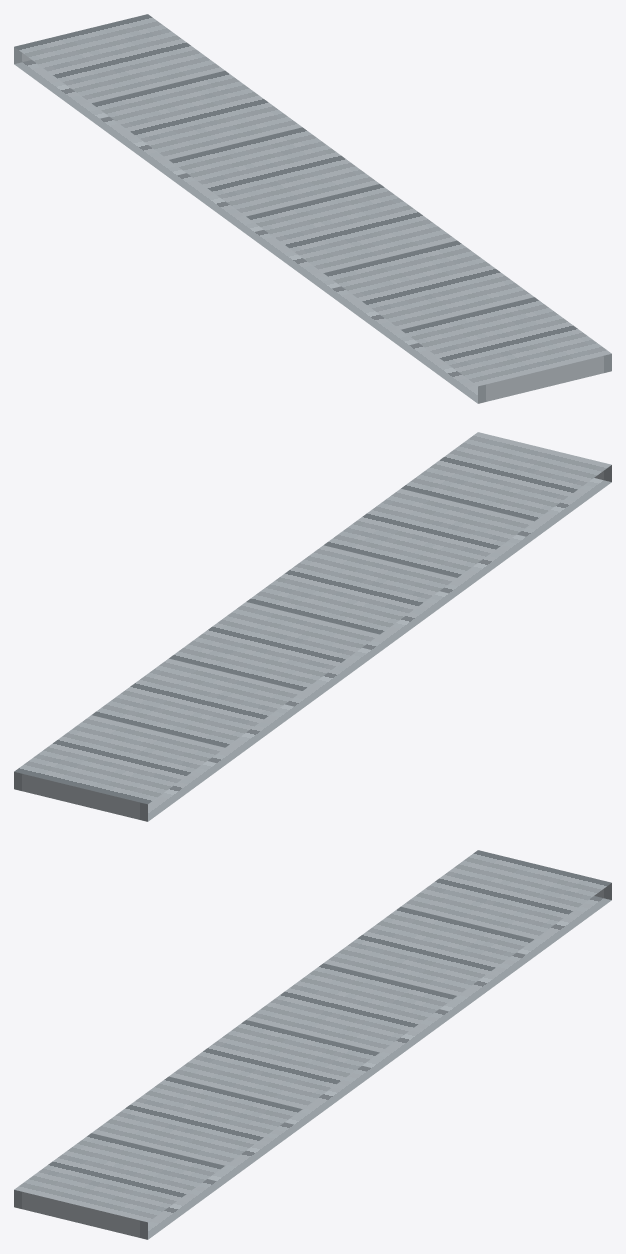
Rendered from commercial_run_6.obj.
The picture shows the model from 3 angles, top to bottom: view 1: azimuth 30°, elevation 25°; view 2: azimuth 150°, elevation 25°; view 3: azimuth 330°, elevation 25°; orthographic projection.
Parts seen in each view (by area): view 1: run; view 2: run; view 3: run.
Part boxes in pixels (x1,y1,x2,y2): run: [14, 14, 611, 403]; run: [14, 432, 611, 821]; run: [14, 850, 611, 1239].
Size of the model in its own units: 1 by 0.125 by 6.
